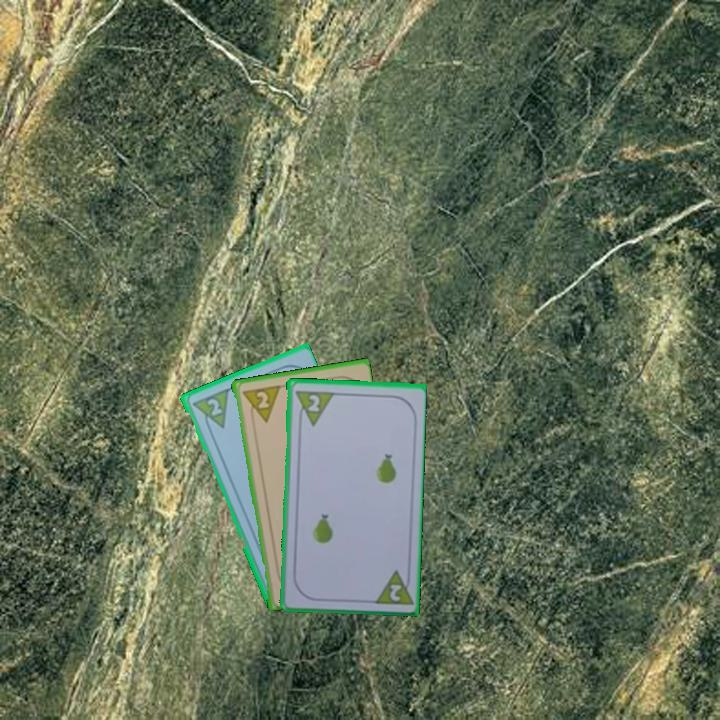2p: (238, 381, 282, 426), (370, 565, 414, 608), (203, 394, 225, 419), (304, 390, 322, 414)
